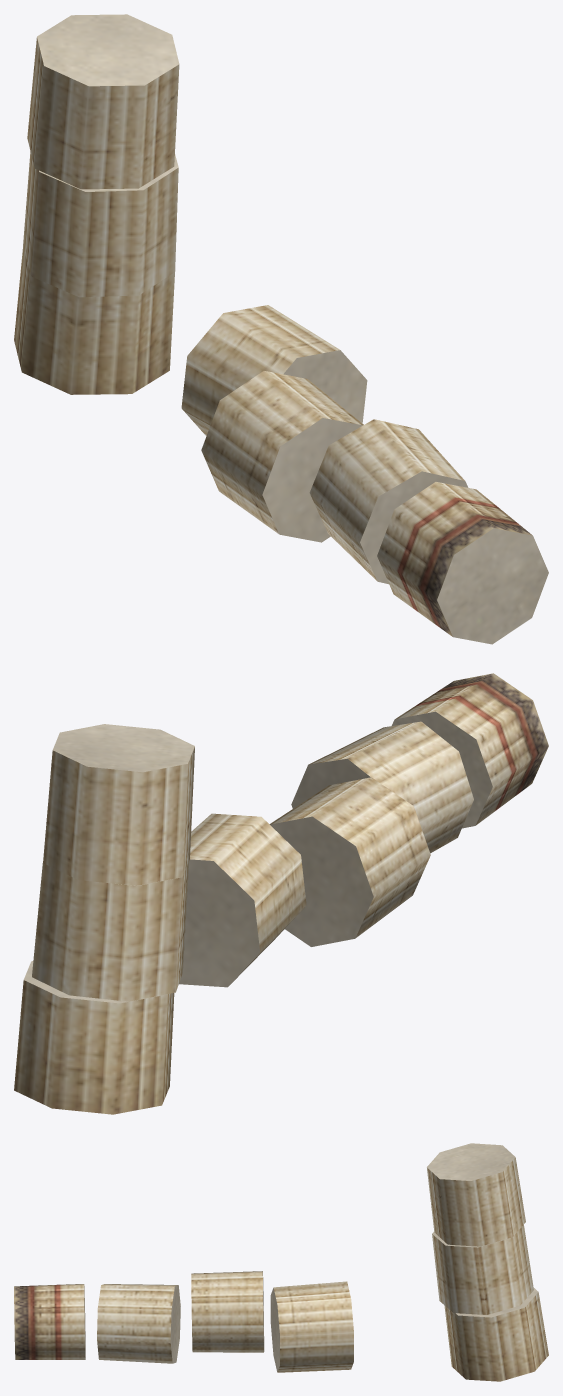
Rendered from column_fallen_a.dae.
3 views of the same model, one above another, from view 1: azimuth 30°, elevation 25°; view 2: azimuth 150°, elevation 25°; view 3: azimuth 270°, elevation 25° (orthographic). The views are drawn at different scales.
Parts seen in each view (by area): view 1: column_fallen_a; view 2: column_fallen_a; view 3: column_fallen_a.
Part boxes in pixels (bbox=[...]): column_fallen_a: bbox=[14, 14, 548, 644]; column_fallen_a: bbox=[14, 673, 548, 1114]; column_fallen_a: bbox=[14, 1143, 548, 1381].
Bounding box in the file's own units: 2.26 × 9.61 × 4.11.
